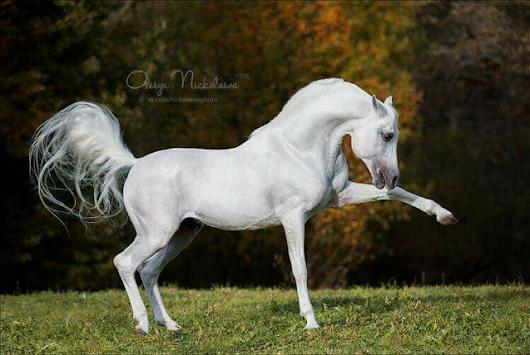horse: (28, 76, 458, 335)
